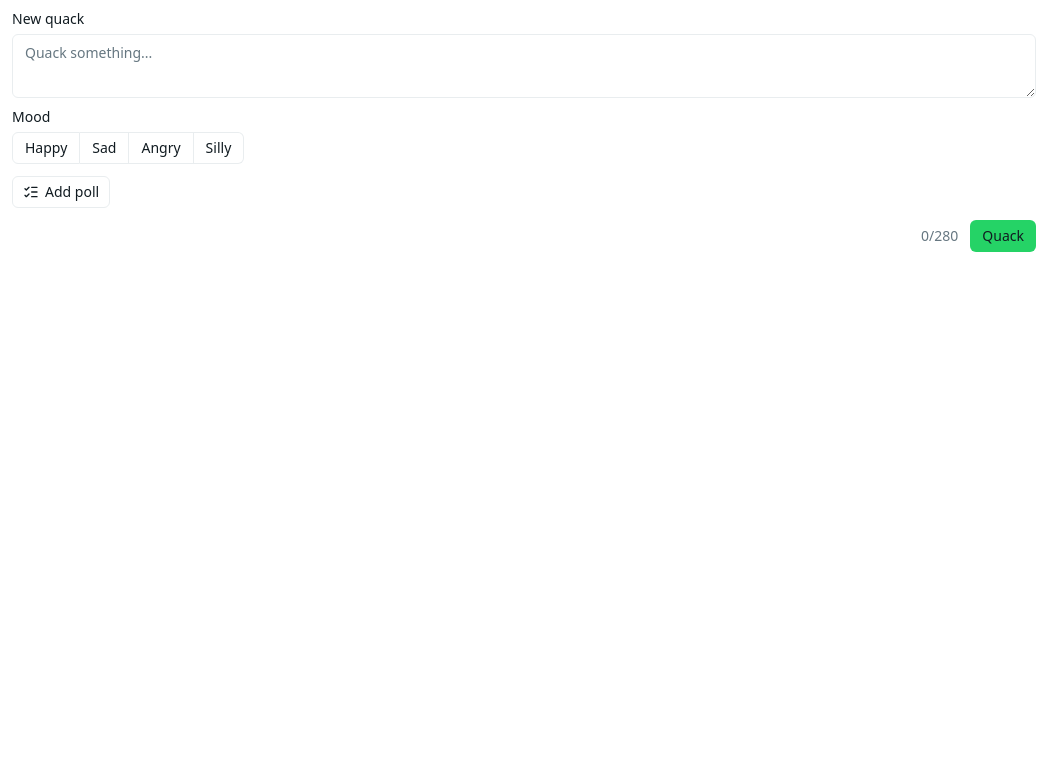
Test: QuackForm › poll › stops offering more options at seven
This screenshot has width=1048, height=780.
Step 1. Click the button "Add poll" → click(61, 192), box left=12, top=176, right=110, bottom=208
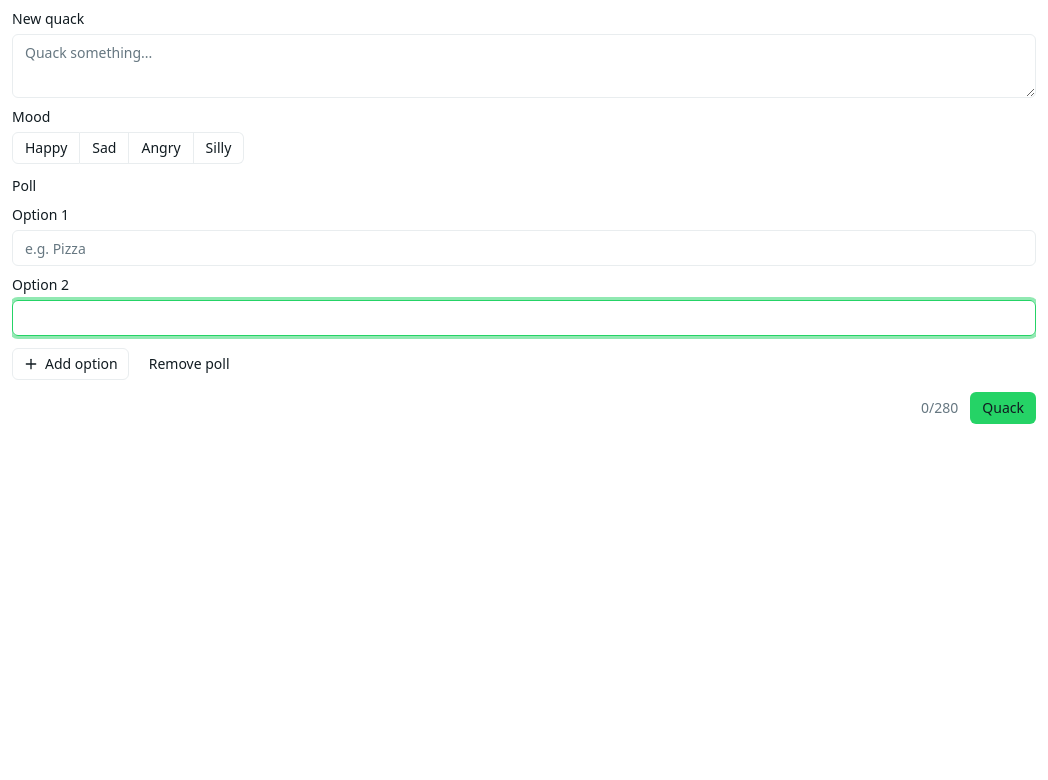
Step 2. Click the button "Add option" → click(70, 364), box left=12, top=348, right=129, bottom=380
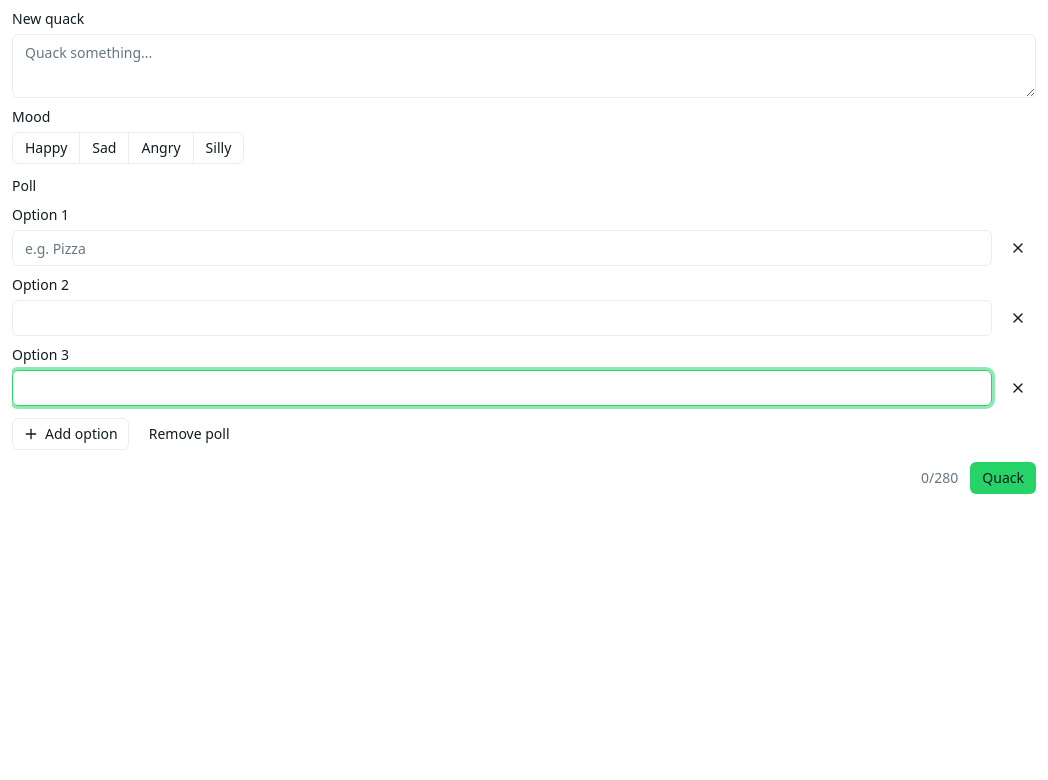
Step 3. Click the button "Add option" → click(70, 434), box left=12, top=418, right=129, bottom=450
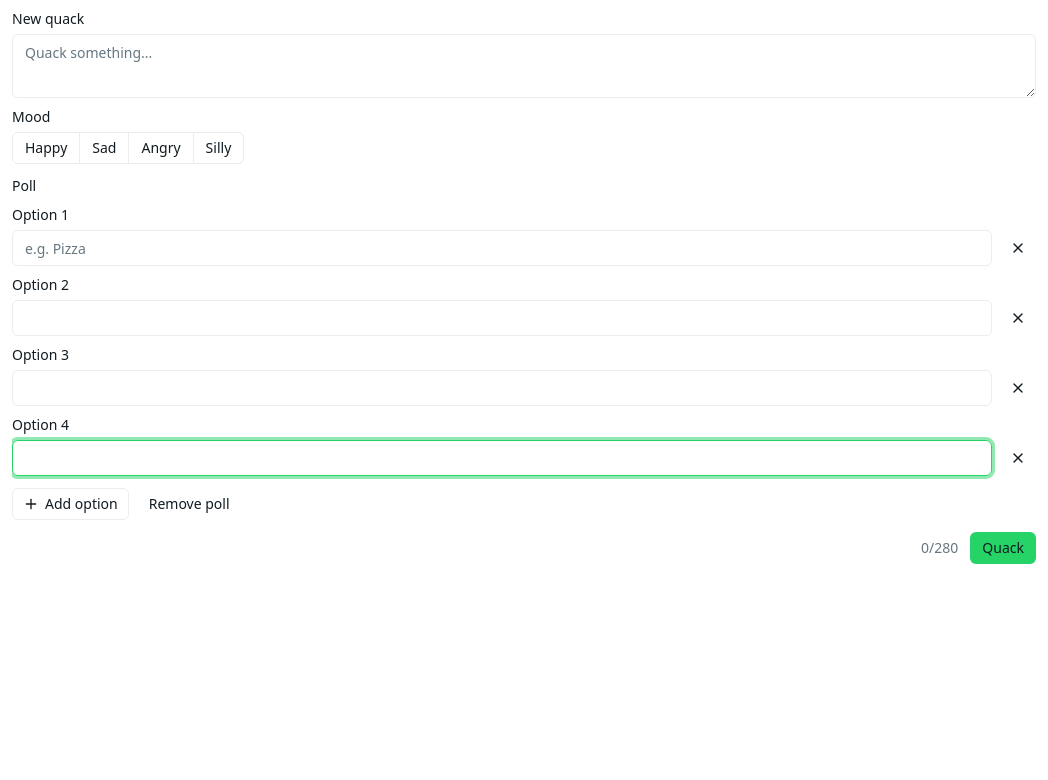
Step 4. Click the button "Add option" → click(70, 504), box left=12, top=488, right=129, bottom=520
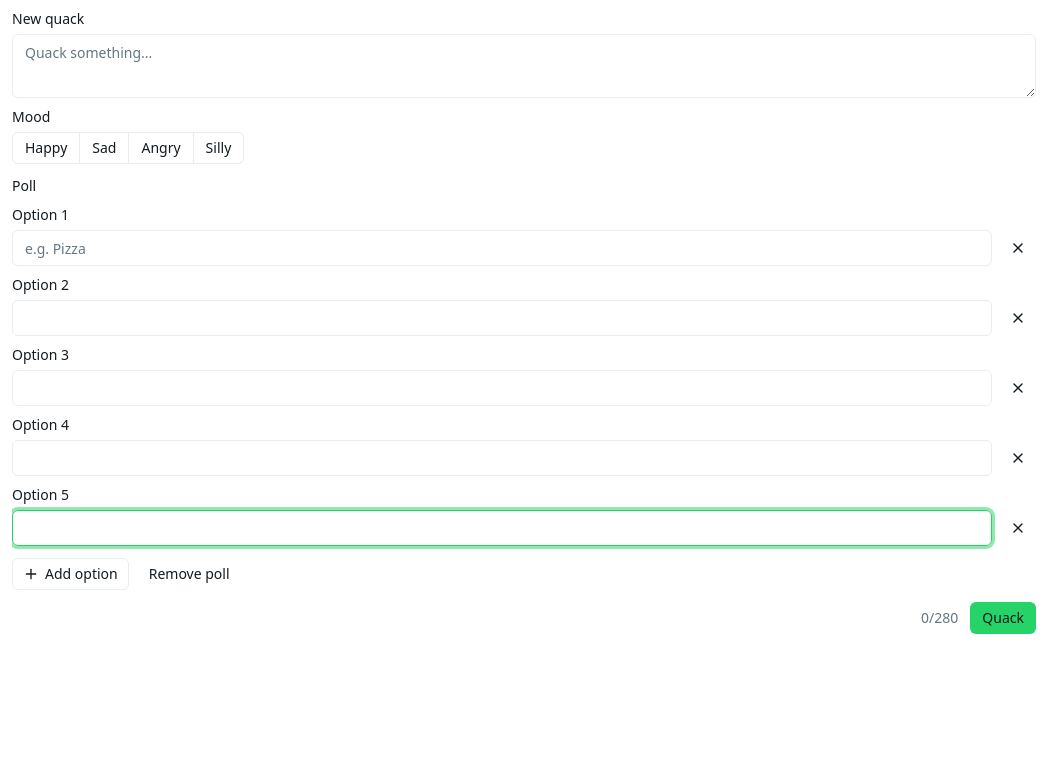
Step 5. Click the button "Add option" → click(70, 574), box left=12, top=558, right=129, bottom=590
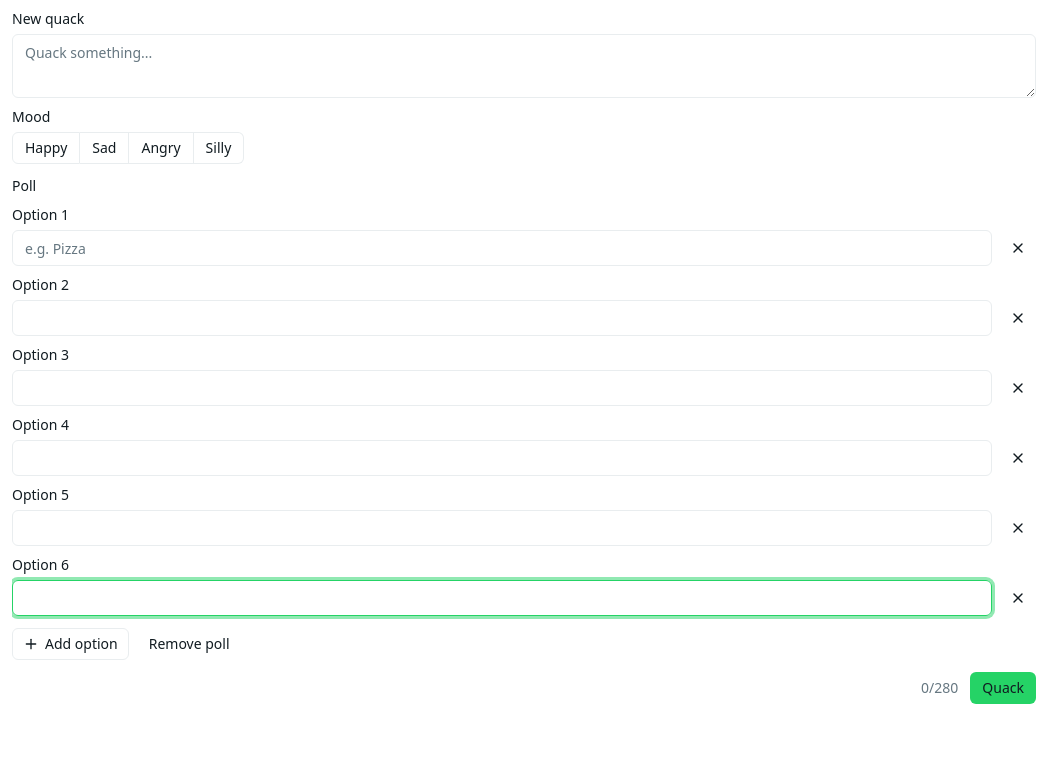
Step 6. Click the button "Add option" → click(70, 644), box left=12, top=628, right=129, bottom=660
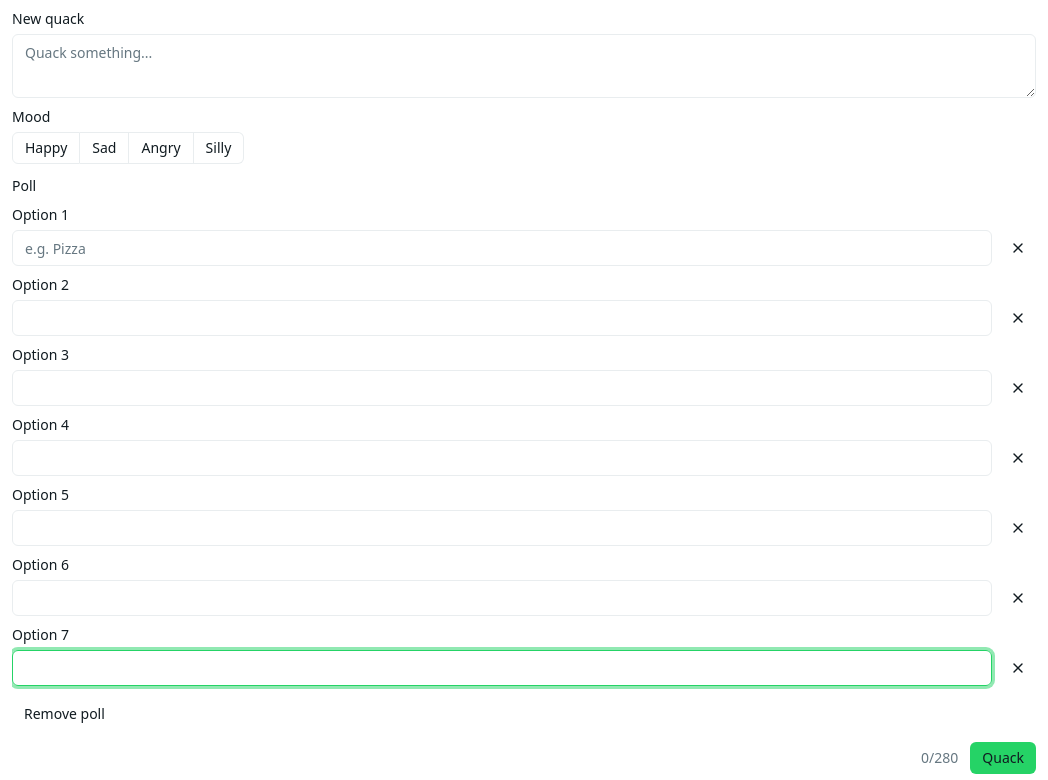
Expected: the button "Add option" is gone
